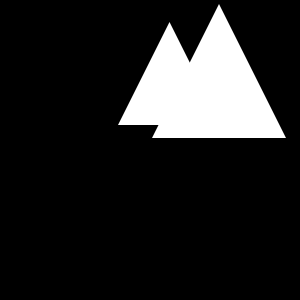triangle: (152, 4, 286, 138), (118, 22, 221, 125)
